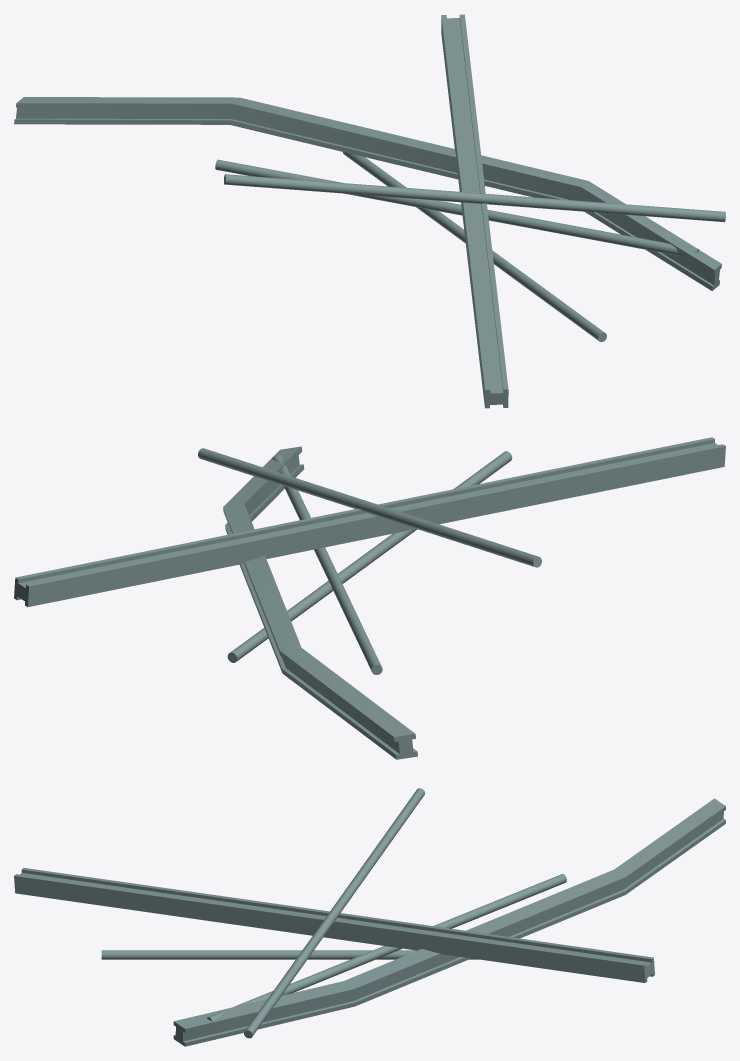
Rendered from metal_placehold.fbx.
The picture shows the model from 3 angles, top to bottom: view 1: azimuth 30°, elevation 25°; view 2: azimuth 150°, elevation 25°; view 3: azimuth 270°, elevation 25°; orthographic projection. The views are drawn at different scales.
Parts seen in each view (by area): view 1: pCube2, pCube1, pCylinder2, pCylinder3, pCylinder1; view 2: pCube1, pCube2, pCylinder2, pCylinder1, pCylinder3; view 3: pCube1, pCube2, pCylinder2, pCylinder3, pCylinder1.
Boxes of the visible parts, bbox=[...] form: pCube2: bbox=[14, 97, 721, 290]; pCube1: bbox=[441, 14, 508, 408]; pCylinder2: bbox=[224, 174, 725, 222]; pCylinder3: bbox=[215, 159, 699, 255]; pCylinder1: bbox=[343, 152, 606, 342]; pCube1: bbox=[14, 437, 725, 606]; pCube2: bbox=[223, 446, 417, 759]; pCylinder2: bbox=[198, 448, 541, 567]; pCylinder1: bbox=[227, 451, 512, 662]; pCylinder3: bbox=[272, 455, 382, 674]; pCube1: bbox=[14, 868, 654, 982]; pCube2: bbox=[173, 798, 725, 1046]; pCylinder2: bbox=[244, 788, 424, 1038]; pCylinder3: bbox=[207, 874, 566, 1021]; pCylinder1: bbox=[101, 950, 478, 959].
Size of the model in its own units: 18.66 by 4.1 by 27.56.
